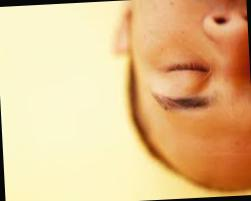closed: (146, 54, 225, 124)
